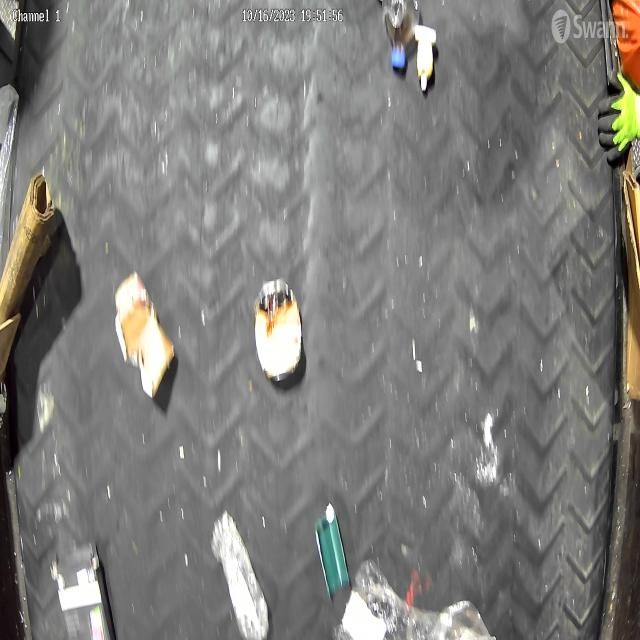can: (254, 274, 304, 388)
plastic_bottle: (378, 0, 420, 74)
